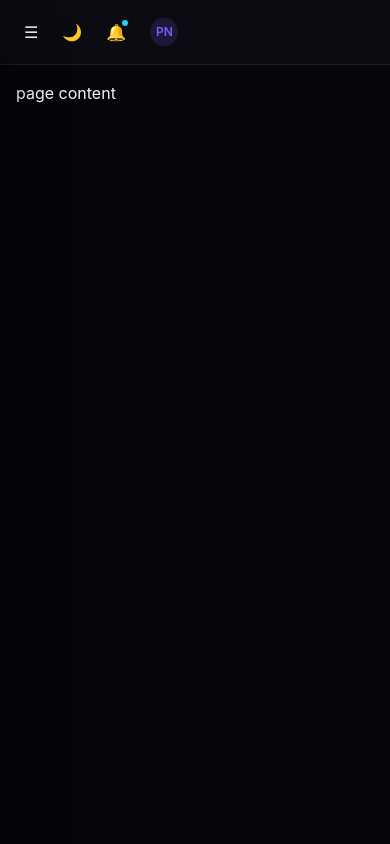
Test: AppShell › mobile/tablet (<=1024px) › closes the drawer when the scrim is clicked
Step 1. Click the button named "Expand navigation" → x=31, y=32, box x1=16 y1=12 x2=46 y2=52
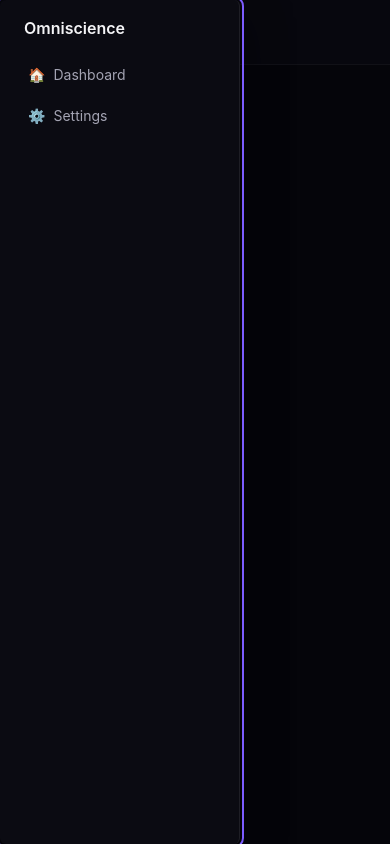
Step 2. Click the button named "Close navigation" → x=367, y=422, box x1=0 y1=0 x2=389 y2=843
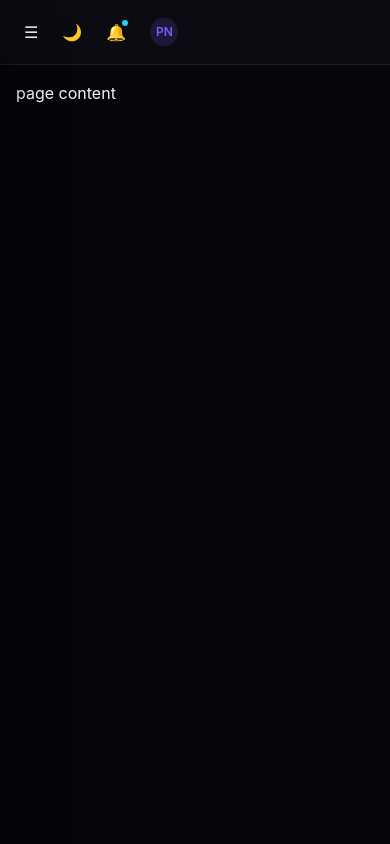
Now the button named "Expand navigation" is shown, box x1=16 y1=12 x2=46 y2=52
